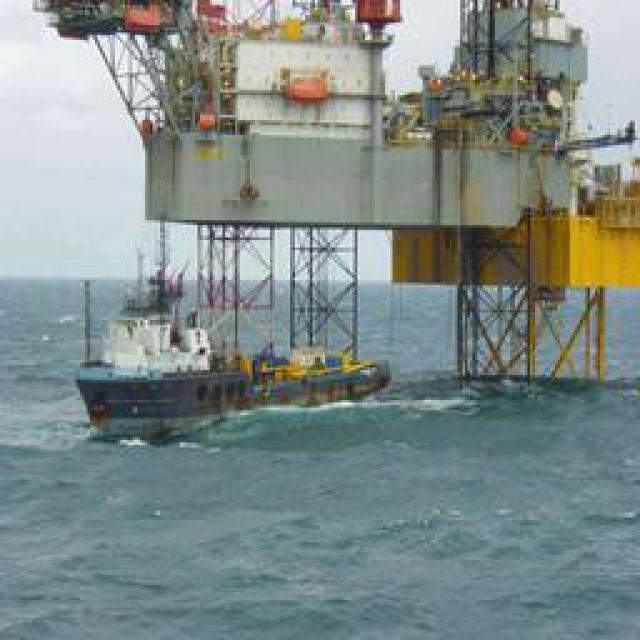Ship: (76, 270, 391, 443)
